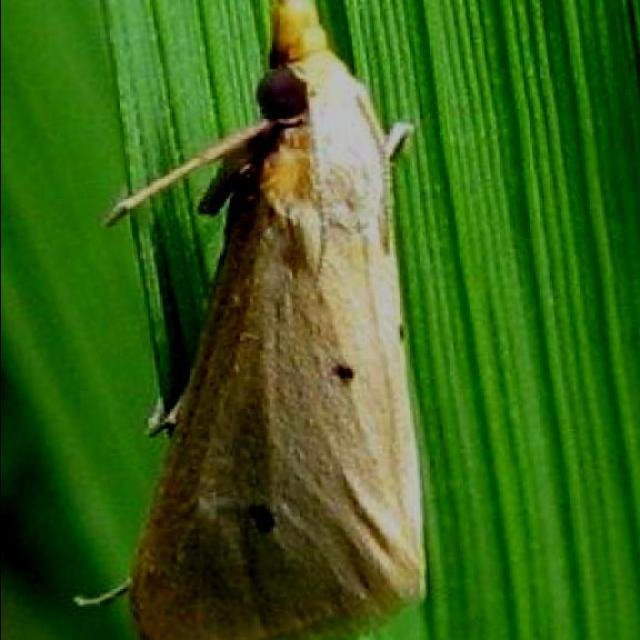stem borer: (73, 0, 424, 640)
